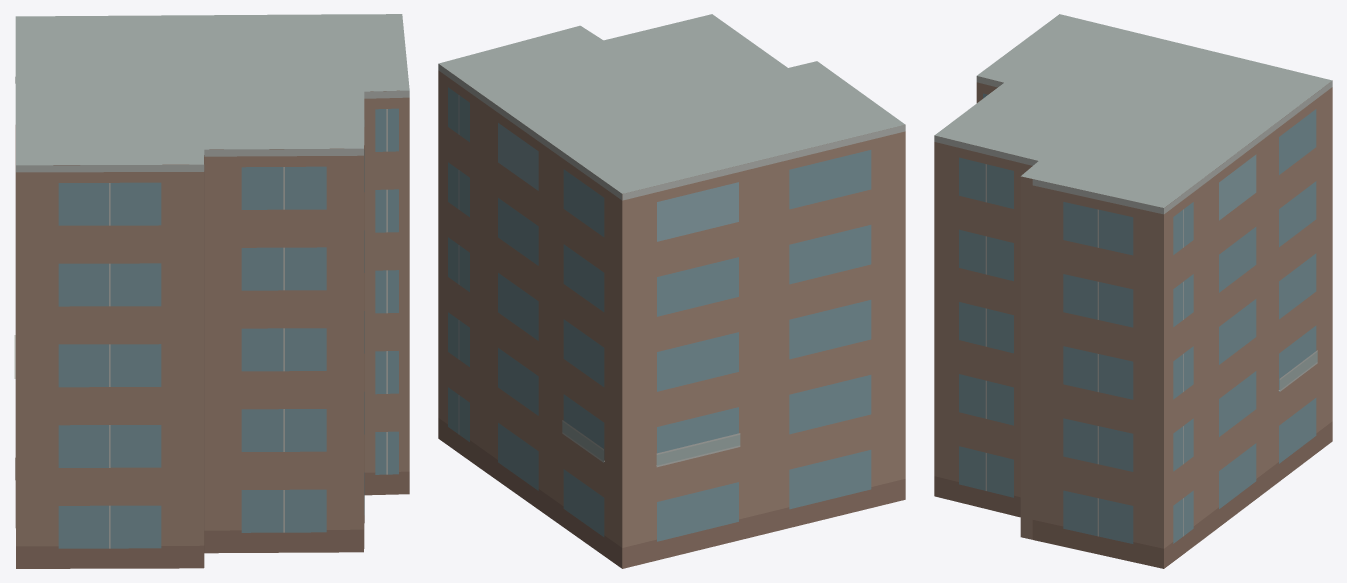
File: survey-upis-32884791.glb
The picture shows the model from 3 angles, left to right: view 1: azimuth 30°, elevation 25°; view 2: azimuth 150°, elevation 25°; view 3: azimuth 270°, elevation 25°; orthographic projection. The views are drawn at different scales.
Visible parts, largest first — view 1: survey-upis-32884791.tmp; view 2: survey-upis-32884791.tmp; view 3: survey-upis-32884791.tmp.
Boxes of the visible parts, box(x1,y1,x2,y2) form: survey-upis-32884791.tmp: box(14, 14, 409, 568); survey-upis-32884791.tmp: box(438, 14, 905, 568); survey-upis-32884791.tmp: box(934, 14, 1332, 568).
Bounding box in the file's own units: 15.81 × 13.7 × 13.71.
